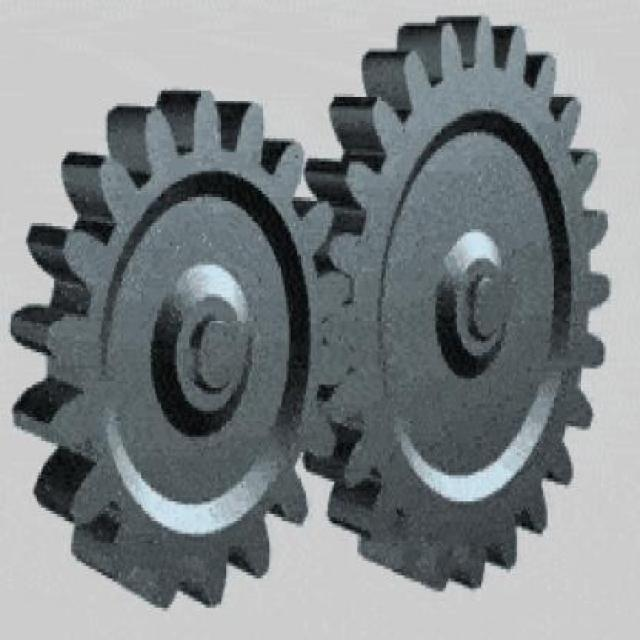Gear: (10, 86, 354, 611), (304, 12, 614, 594)
